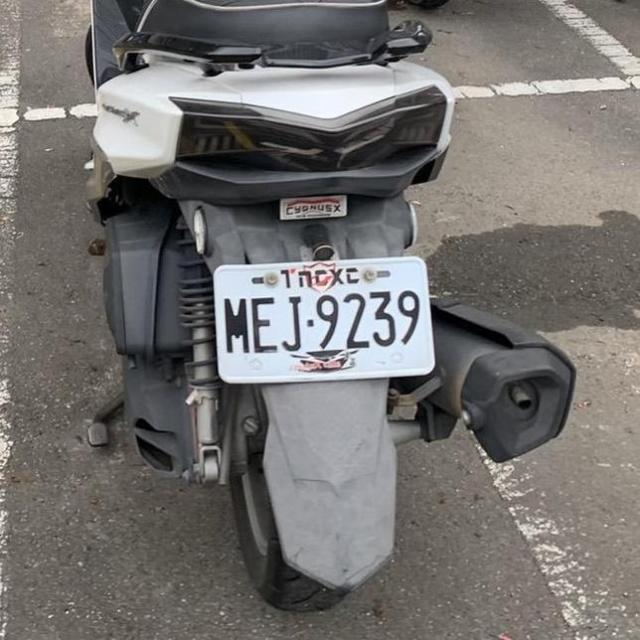W: (210, 246, 435, 386)
